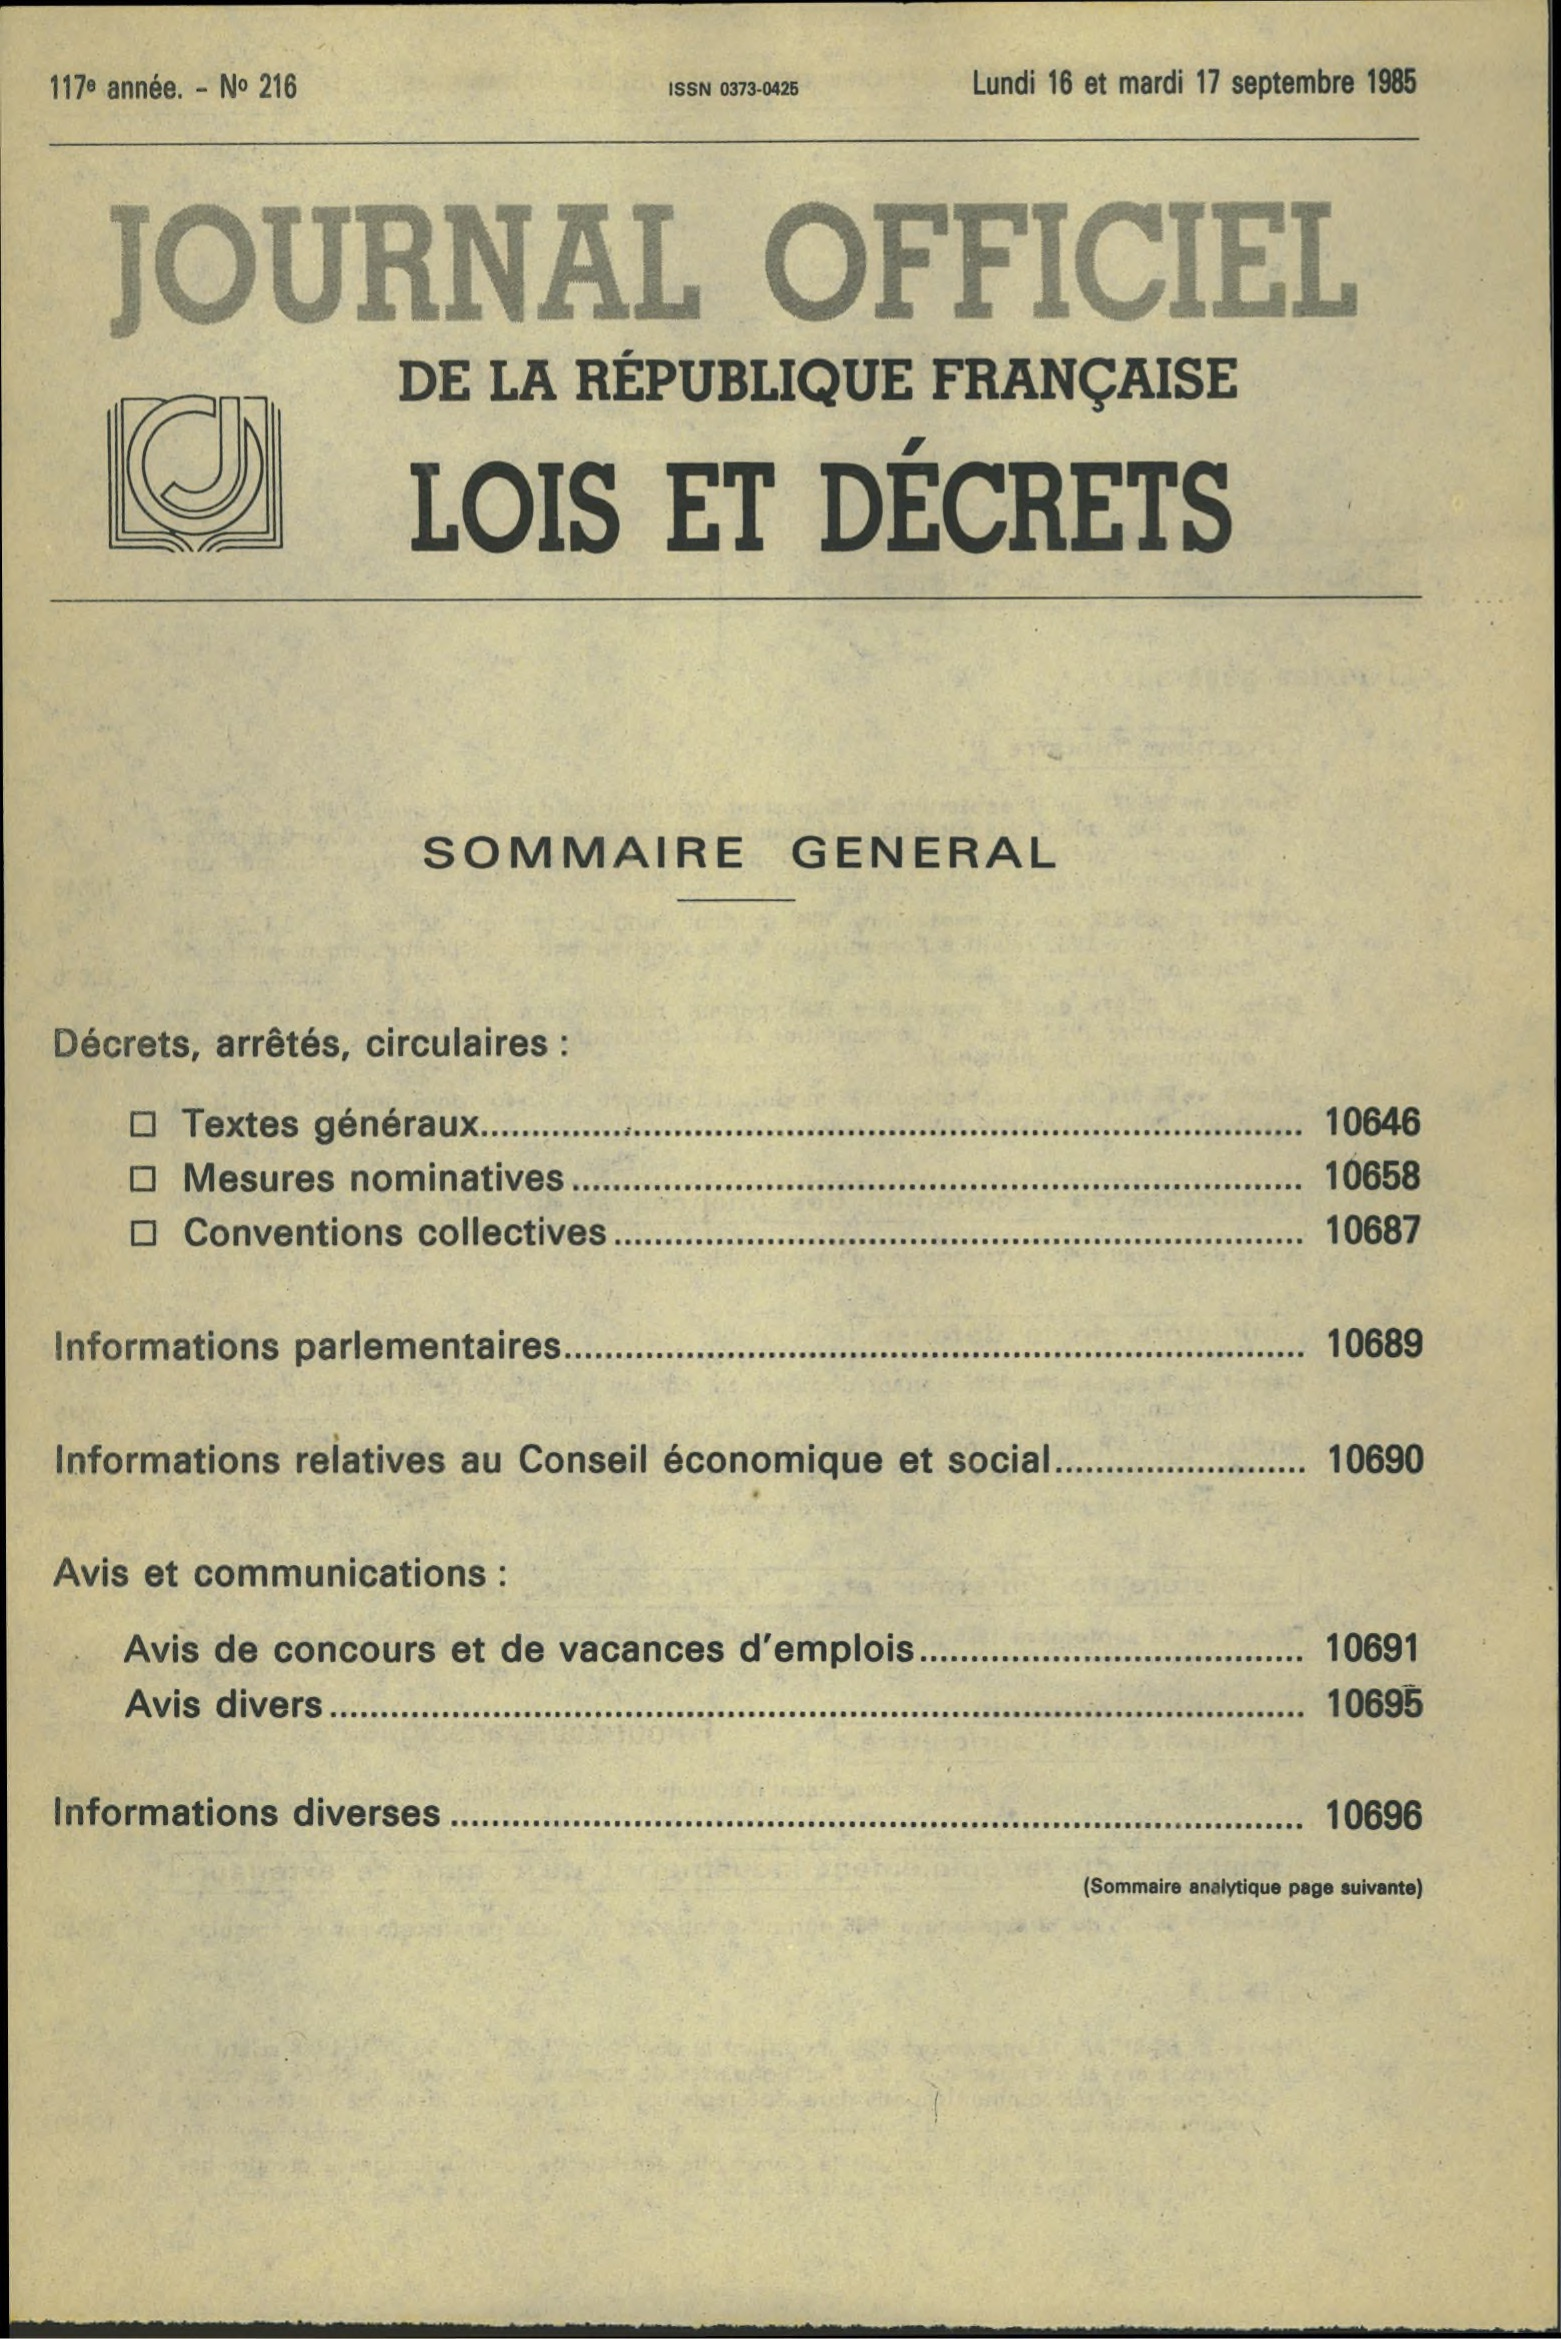MainZone-Date: (956, 50, 1431, 112)
MainZone-Head: (36, 174, 1441, 628), (399, 810, 1071, 896)
RunningTitleZone: (39, 59, 311, 111), (654, 69, 807, 111)
TitlePageZone-Index: (20, 1008, 1476, 1929)
